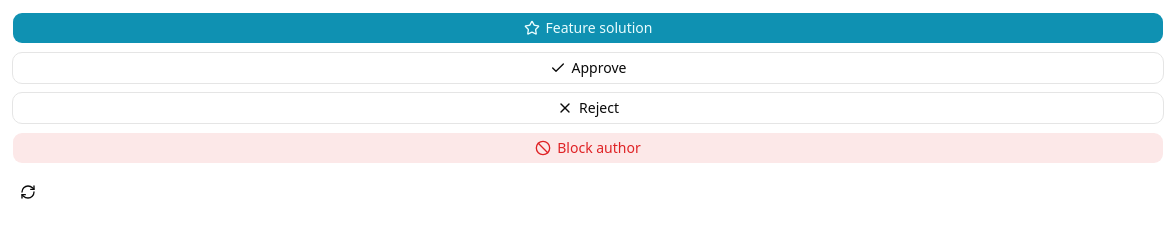
Test: solution review actions › keeps the queue on SolutionReviewBusyError
This screenshot has width=1176, height=248.
Click the button "Approve" at (588, 68), box x1=12 y1=52 x2=1164 y2=84
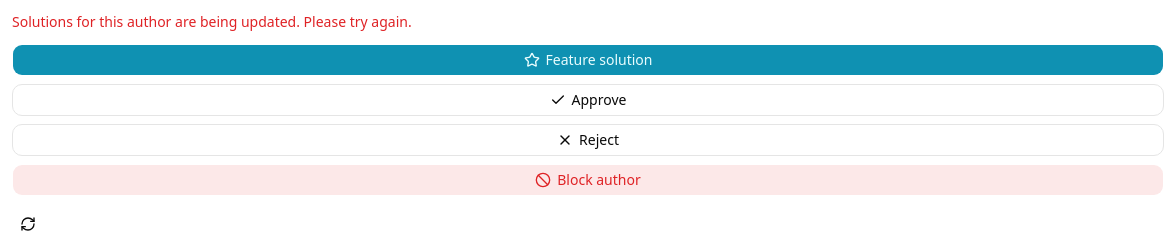
Check: the message reads "Solutions for this author are being updated. Please try again.", box x1=12 y1=12 x2=412 y2=31
